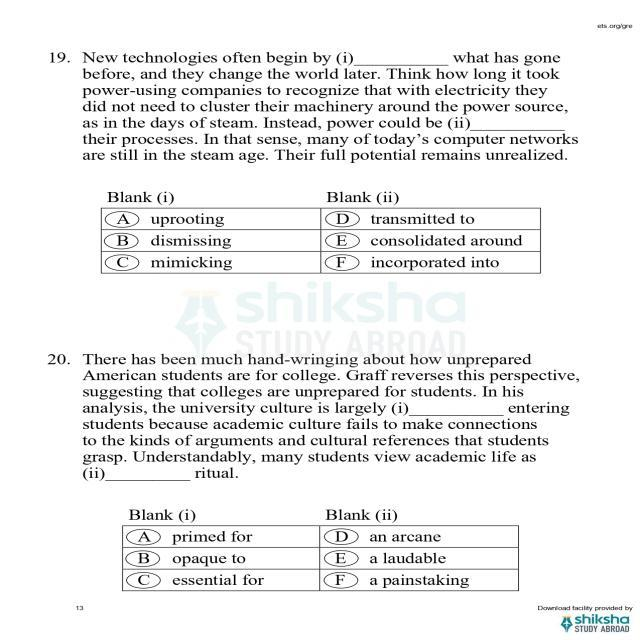Answer_Block: (16, 176, 617, 295), (16, 493, 617, 603)
Question_Answer_Block: (16, 336, 617, 602), (16, 33, 617, 295)
Question_Block: (16, 336, 617, 488), (16, 33, 617, 172)
Question_Paper_Area: (16, 33, 617, 604)
